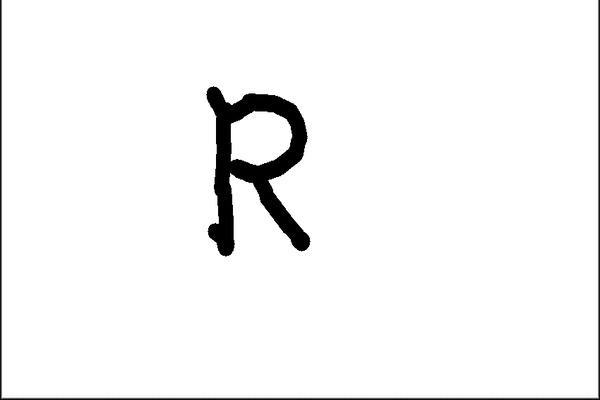R: (198, 77, 328, 266)
